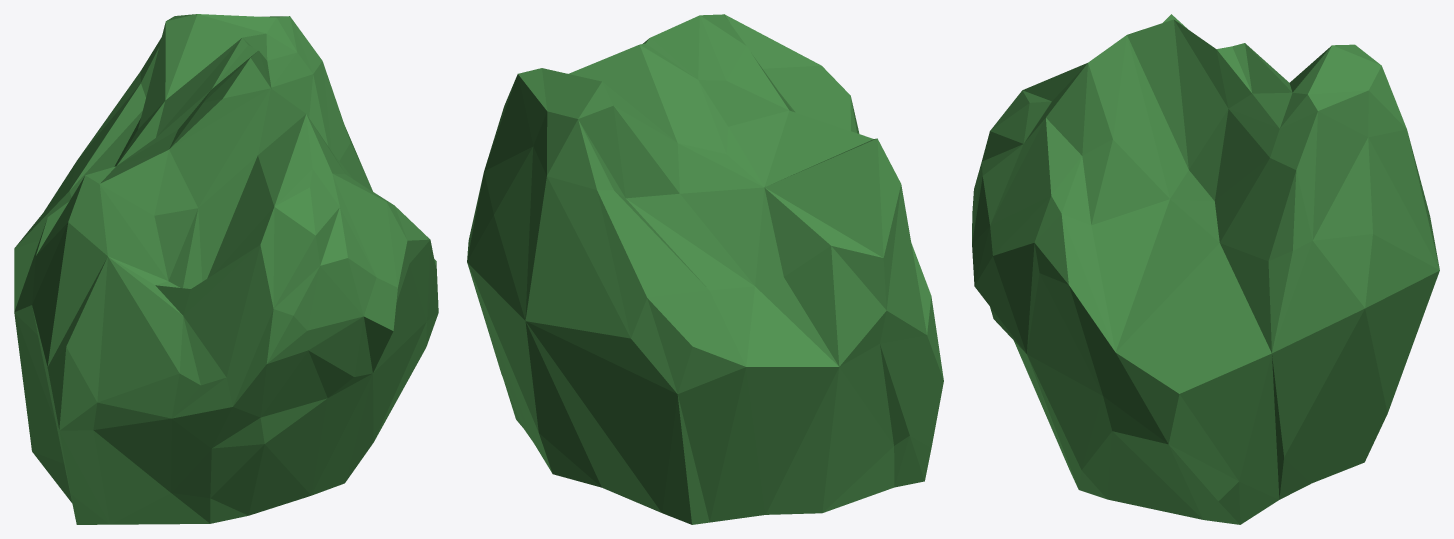
Rendered from Arbusto_pequeño.fbx.
3 renders of one model, left to right at view 1: azimuth 30°, elevation 25°; view 2: azimuth 150°, elevation 25°; view 3: azimuth 270°, elevation 25°, orthographic. The views are drawn at different scales.
Visible parts, largest first — view 1: Arbusto_pequeño; view 2: Arbusto_pequeño; view 3: Arbusto_pequeño.
Part boxes in pixels (x1,y1,x2,y2): Arbusto_pequeño: [14, 14, 438, 524]; Arbusto_pequeño: [467, 14, 943, 524]; Arbusto_pequeño: [972, 14, 1439, 524].
Bounding box in the file's own units: 0.9796 × 0.9526 × 0.9111.
